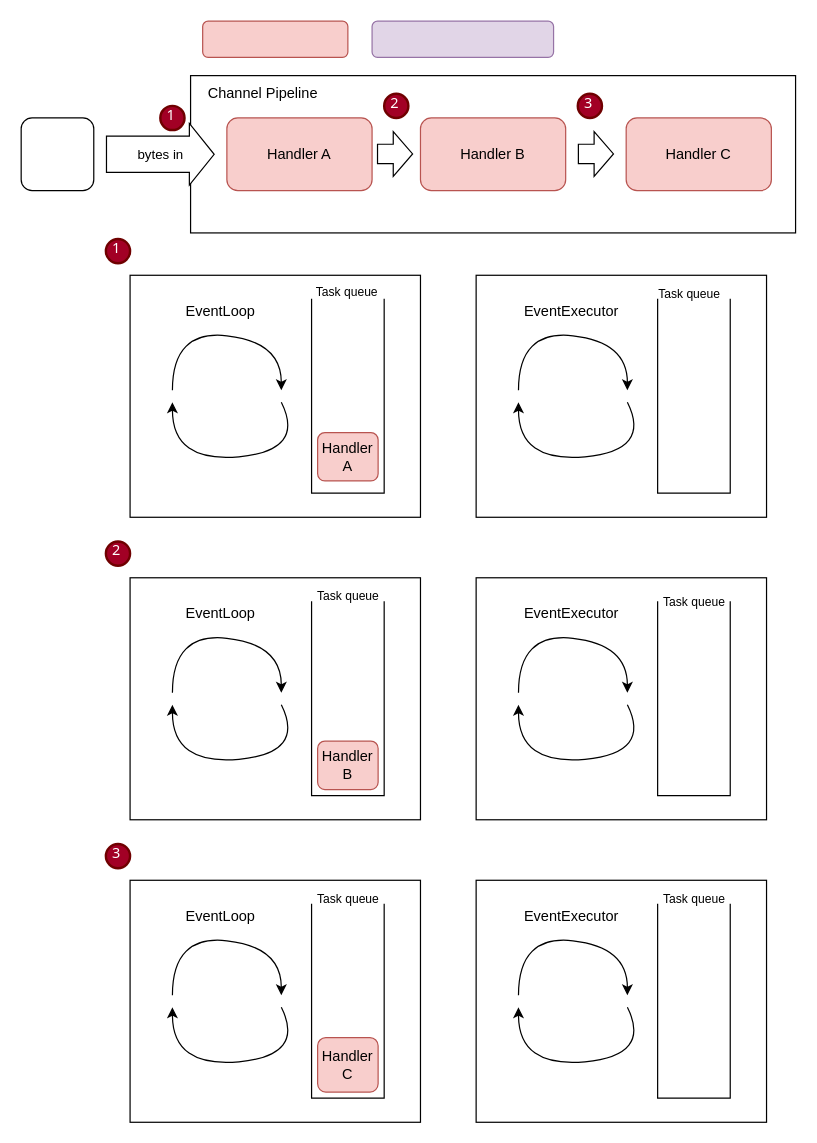
Image size: 817x1143. Some labels were removed from this diagram. Here are the shapes that lost their labels. From the top down, the centre of each, then its label:
(x=274, y=38): Event Loop Thread
(x=462, y=38): Event Executor Thread
(x=57, y=154): Socket
